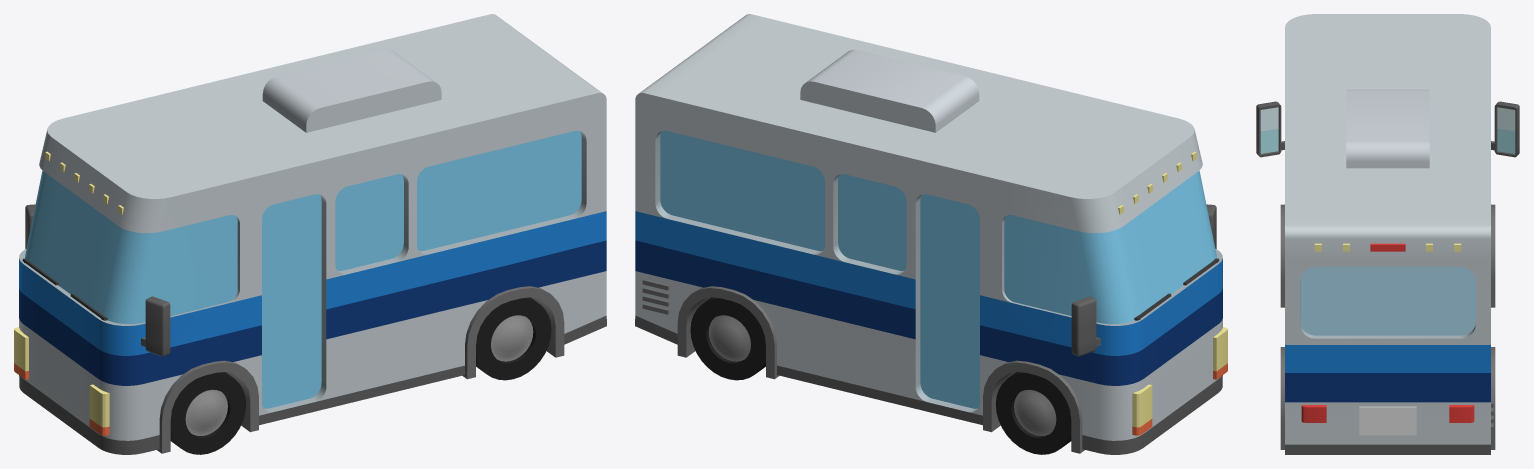
File: bus.fbx
3 renders of one model, left to right at view 1: azimuth 30°, elevation 25°; view 2: azimuth 150°, elevation 25°; view 3: azimuth 270°, elevation 25°, orthographic. The views are drawn at different scales.
Visible parts, largest first — view 1: Cube.604; view 2: Cube.604; view 3: Cube.604.
Part boxes in pixels (x1,y1,x2,y2): Cube.604: [14, 14, 606, 454]; Cube.604: [635, 14, 1227, 454]; Cube.604: [1256, 14, 1519, 454].
Size of the model in its own units: 227 by 124 by 108.
1 material, 1 textured.
